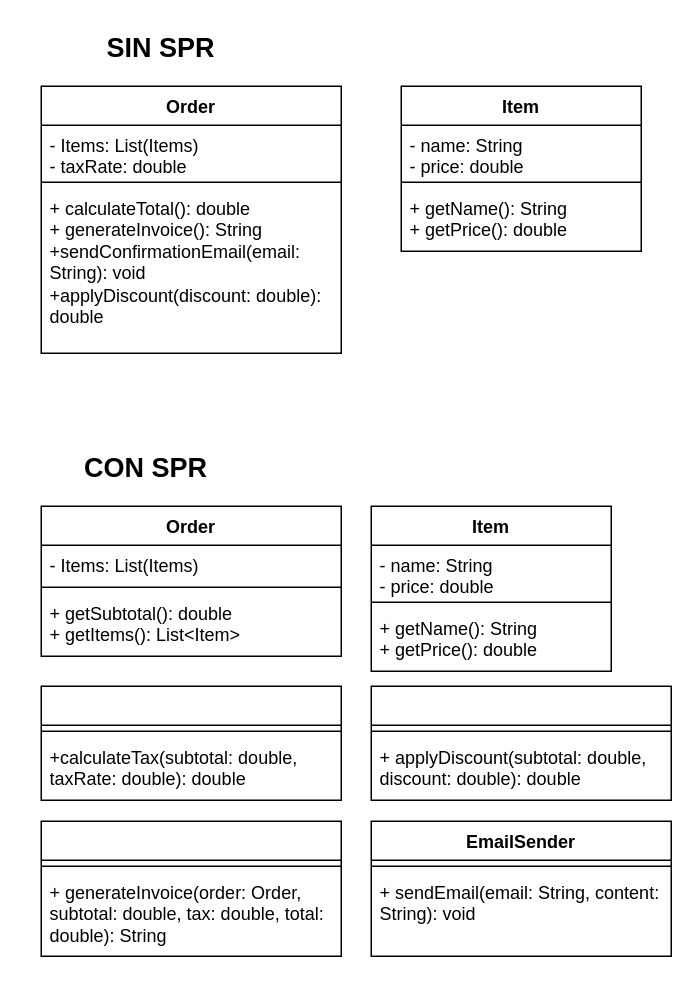
Some shapes in this 698 by 986 pixel diagram are drawn without their labels. The box of each missing label's shape, as (x1, y1, x2, y2) in pixels:
DiscountManager: (370, 685, 671, 800)
InvoiceGenerator: (40, 820, 341, 956)
TaxCalculator: (40, 685, 341, 800)
